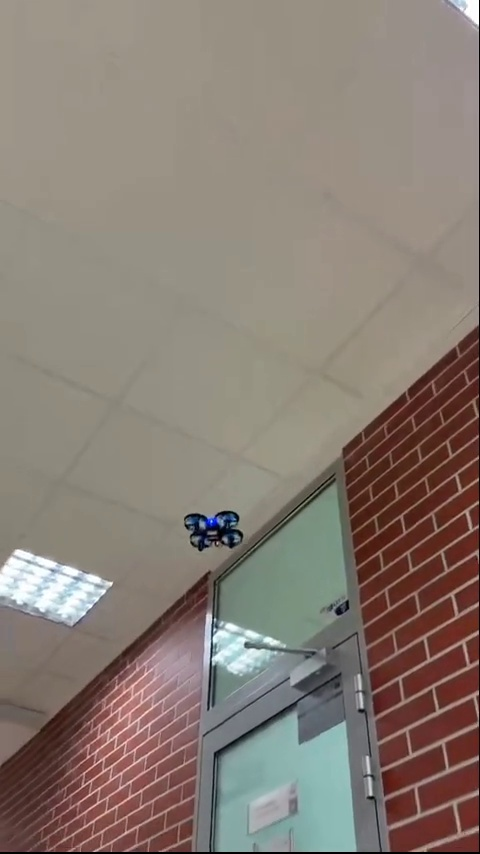drone: (185, 512, 245, 548)
